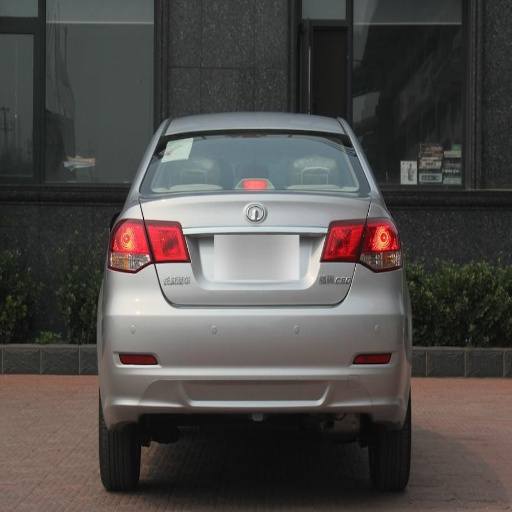back_bumper: (107, 263, 411, 421)
tailgate: (140, 193, 370, 304)
trunk: (328, 205, 369, 291), (143, 196, 220, 236)
